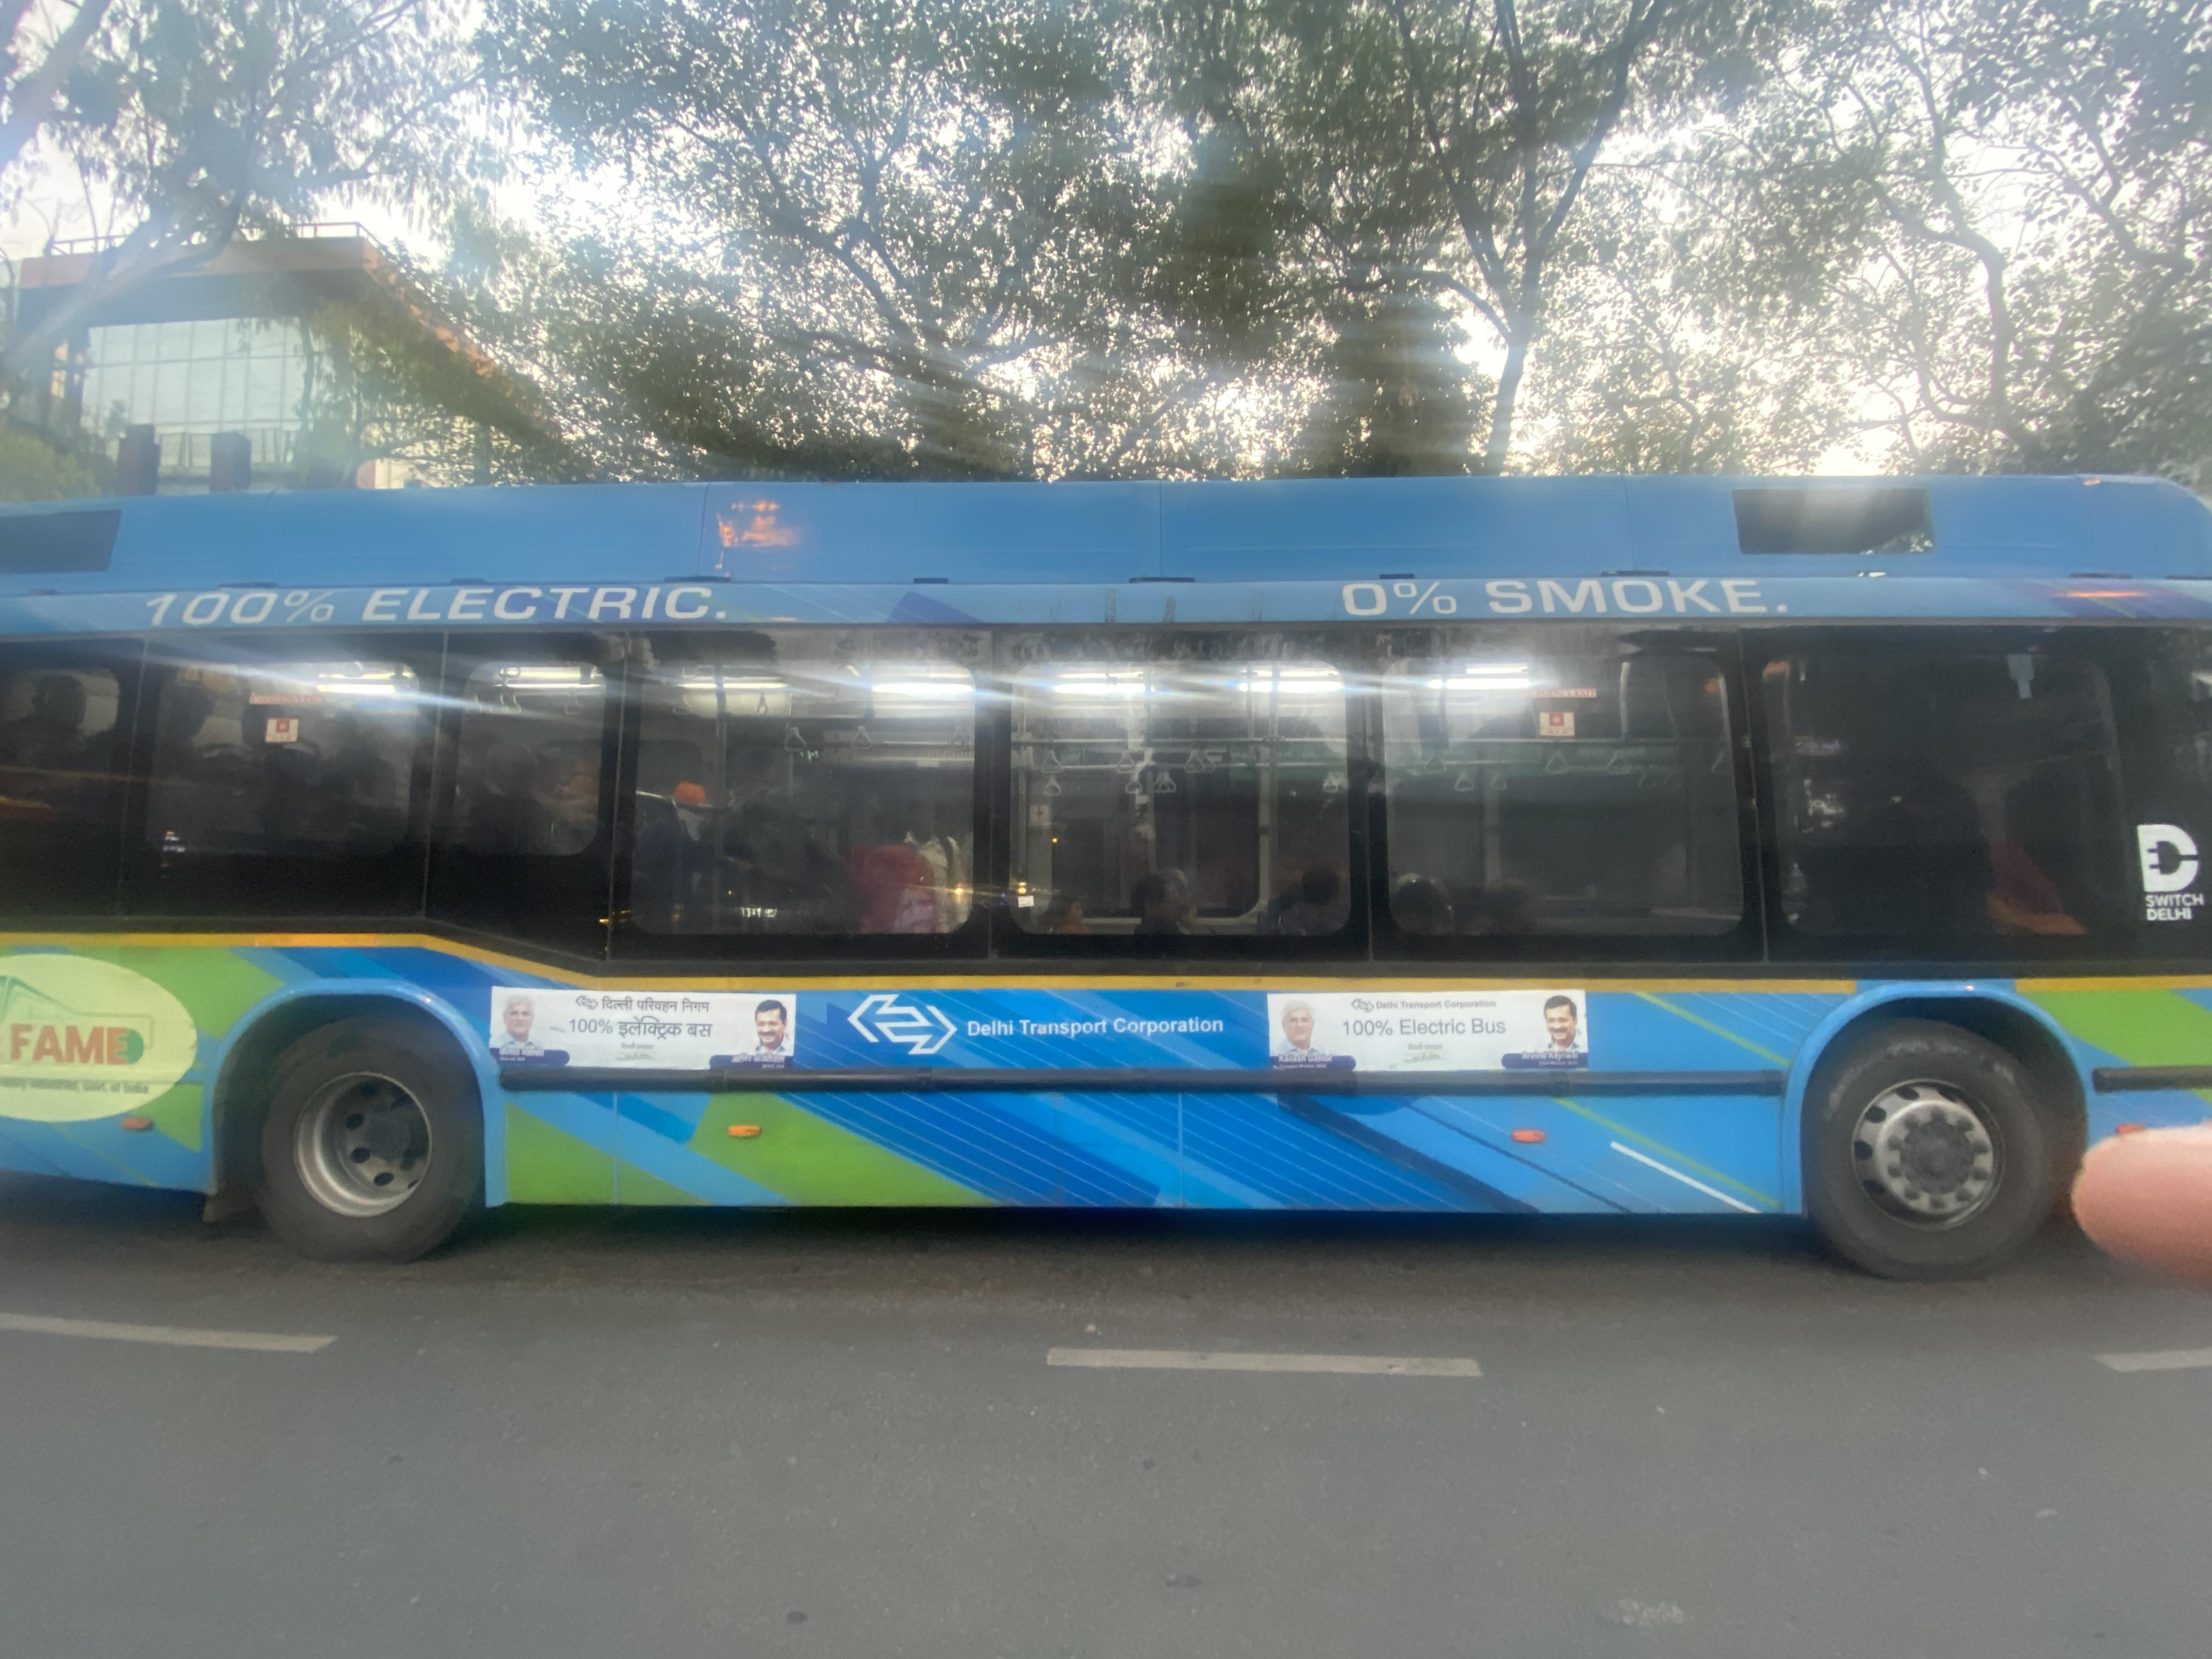Bus: (0, 401, 2212, 1300)
